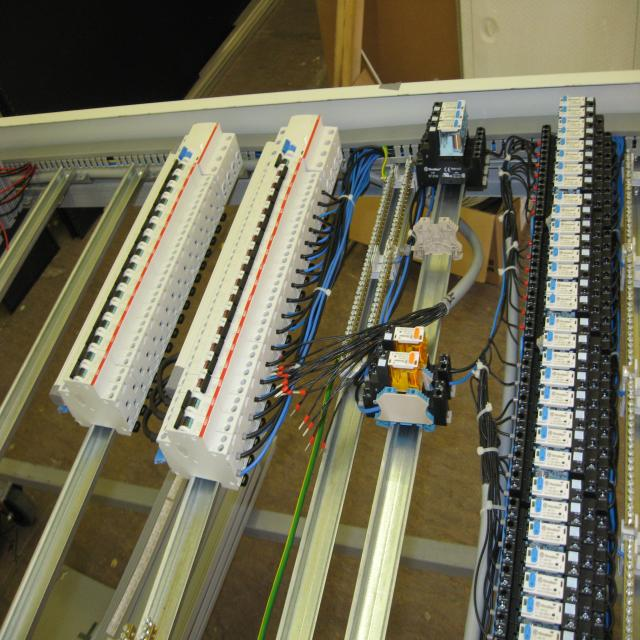FI: (265, 115, 338, 171), (169, 123, 236, 176)
Relais: (521, 595, 578, 630), (523, 572, 579, 603), (525, 547, 581, 577), (528, 520, 582, 550), (529, 498, 582, 525), (532, 476, 584, 502), (534, 448, 585, 473), (536, 427, 586, 451), (539, 387, 588, 409), (538, 408, 587, 430), (540, 368, 588, 390), (518, 623, 576, 640), (542, 351, 589, 371), (544, 332, 589, 351), (545, 316, 591, 334), (546, 294, 589, 313), (378, 350, 420, 368), (546, 280, 590, 296), (383, 327, 424, 344), (547, 263, 590, 279), (550, 233, 592, 248), (549, 248, 591, 263), (554, 174, 593, 190), (551, 206, 591, 220), (553, 192, 593, 205), (551, 220, 591, 233), (555, 162, 593, 175), (558, 116, 594, 128), (557, 138, 593, 150), (428, 119, 462, 131), (560, 95, 595, 106), (433, 100, 465, 112), (430, 110, 464, 121), (556, 151, 593, 161), (559, 107, 594, 117), (558, 127, 593, 137)
Schaltkasten: (1, 71, 639, 640)
Sicherungen_230V: (176, 348, 252, 397), (156, 409, 233, 456), (182, 332, 258, 377), (164, 390, 239, 434), (189, 318, 264, 361), (171, 374, 245, 416), (195, 306, 269, 343), (206, 273, 279, 310), (199, 291, 274, 327), (223, 231, 295, 265), (218, 245, 290, 279), (60, 362, 122, 401), (212, 260, 285, 293), (229, 218, 299, 251), (72, 345, 130, 384), (235, 204, 303, 237), (78, 330, 136, 367), (239, 192, 308, 223), (249, 165, 316, 196), (88, 314, 144, 351), (254, 154, 320, 184), (245, 180, 311, 210), (93, 299, 149, 334), (101, 285, 157, 319), (109, 271, 162, 304), (116, 258, 169, 289), (122, 244, 175, 275), (129, 232, 182, 262), (135, 219, 187, 249), (141, 207, 193, 236), (148, 195, 198, 224), (158, 171, 208, 200), (164, 159, 213, 188), (152, 184, 203, 211)
